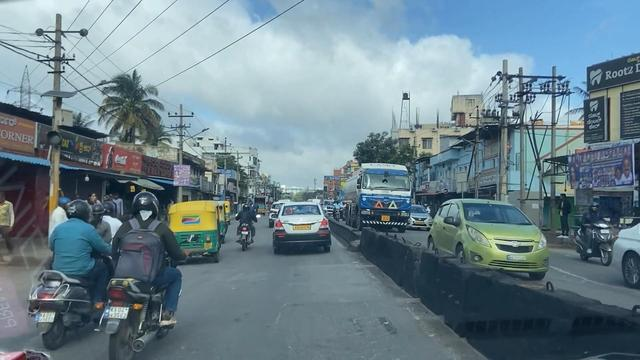LMV: (107, 197, 171, 359), (33, 194, 99, 341), (275, 200, 330, 261), (166, 202, 211, 270), (233, 205, 259, 257)
